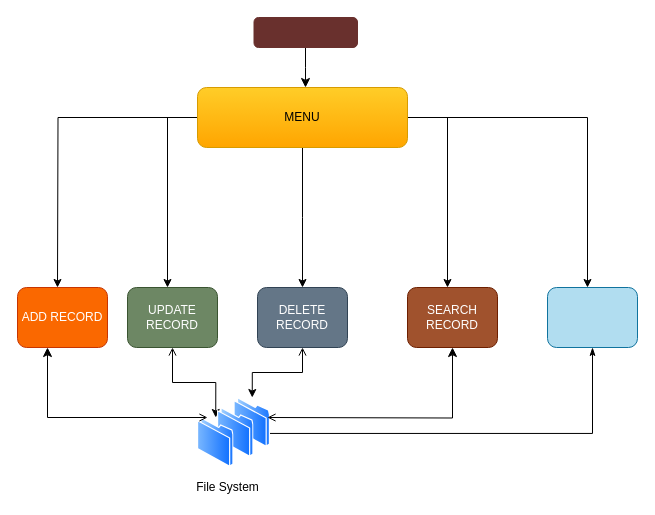
Image size: 655x515. Some labels were removed from this diagram. Each missing label, with the centre of its shape:
DISPLAY LIST: point (592, 317)
TERMINAL: point (305, 32)
